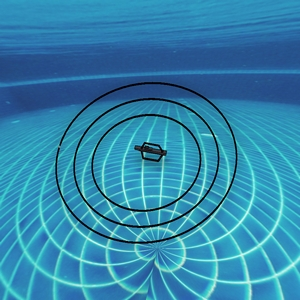circle: (40, 71, 244, 270)
